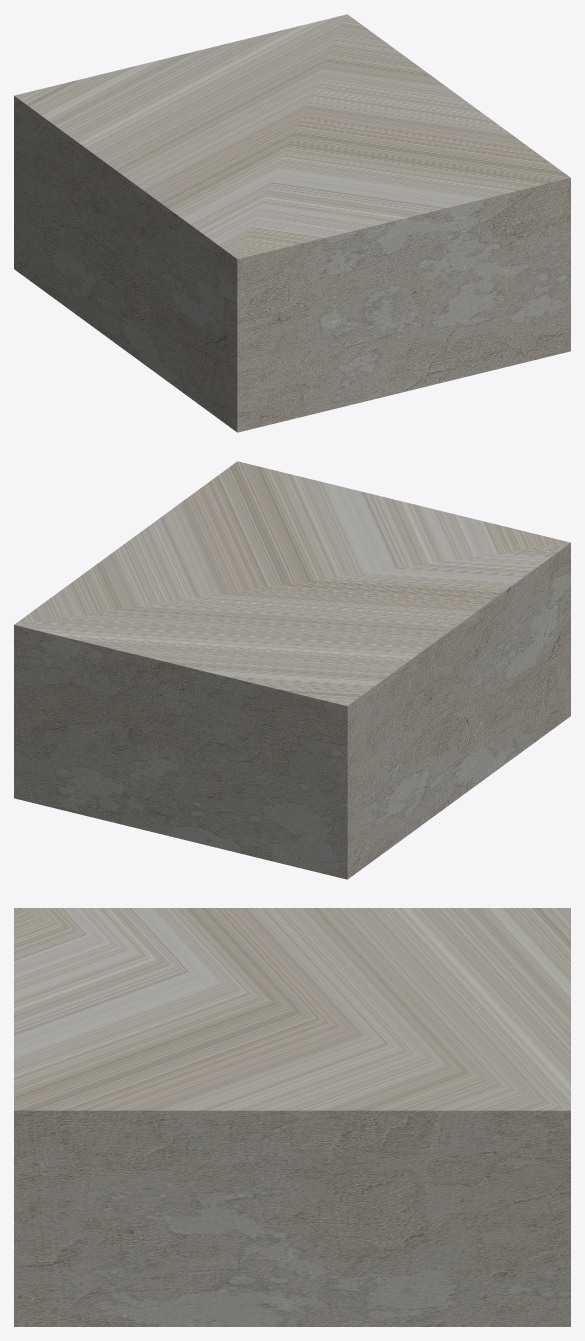
File: ruangan.fbx
3 views of the same model, one above another, from view 1: azimuth 30°, elevation 25°; view 2: azimuth 150°, elevation 25°; view 3: azimuth 270°, elevation 25° (orthographic). The views are drawn at different scales.
Parts seen in each view (by area): view 1: Cube; view 2: Cube; view 3: Cube.
Boxes of the visible parts, left/top/right/bottom form: Cube: left=14, top=14, right=570, bottom=432; Cube: left=14, top=461, right=570, bottom=879; Cube: left=14, top=908, right=570, bottom=1326.
Bounding box in the file's own units: 915 × 455 × 1062.
Materials: 1 (1 with a texture image).
